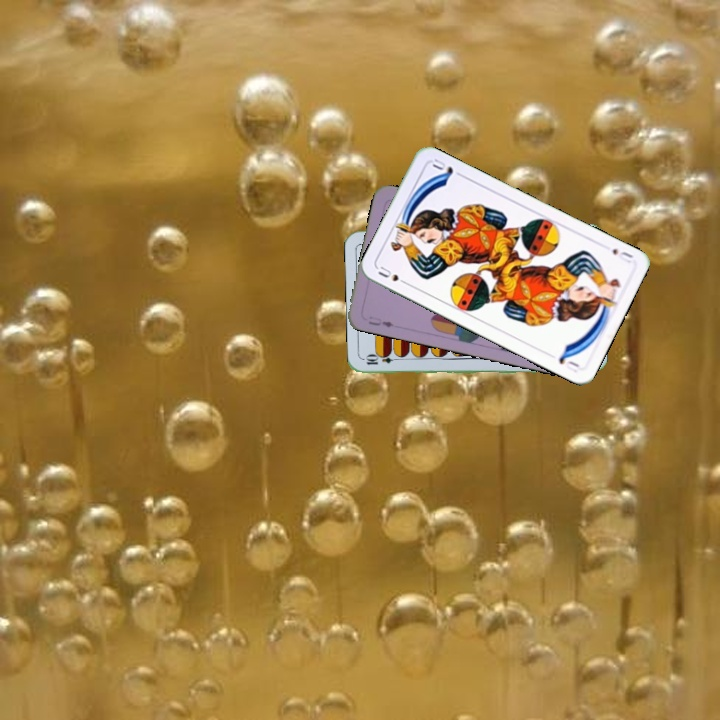E10: (362, 353, 402, 367)
EU: (364, 312, 396, 330)
SU: (374, 262, 412, 288), (608, 244, 636, 266)
